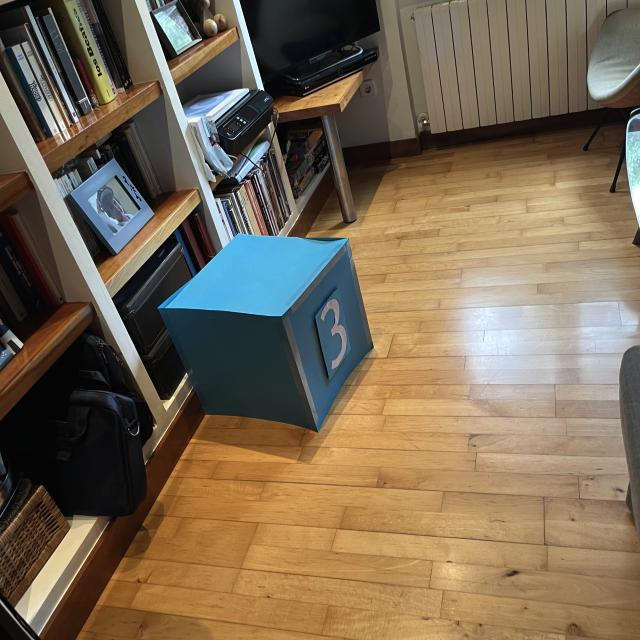box: (155, 229, 378, 434)
